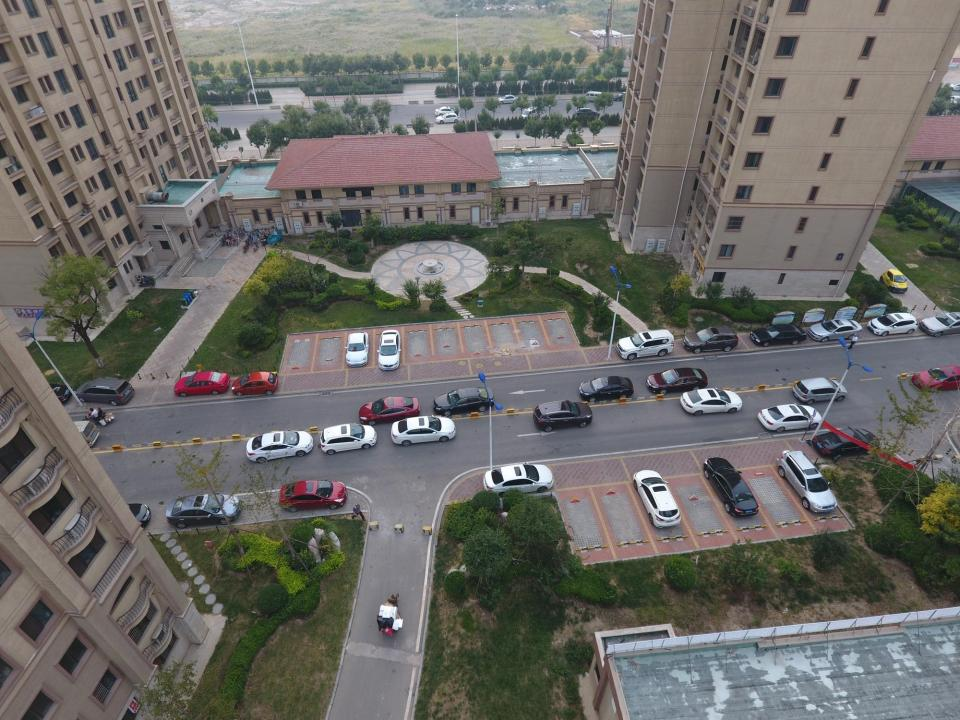car: (777, 450, 838, 512), (704, 457, 758, 517), (633, 470, 681, 527), (166, 492, 242, 528), (483, 462, 553, 497), (811, 426, 881, 461), (279, 478, 347, 512), (81, 498, 151, 531), (246, 430, 314, 463), (391, 414, 455, 446), (758, 402, 822, 433), (533, 400, 592, 432), (432, 386, 494, 416), (359, 396, 420, 426), (680, 387, 742, 416), (616, 329, 674, 360), (320, 423, 377, 454), (646, 368, 708, 395), (682, 326, 739, 354), (792, 377, 847, 405), (174, 371, 230, 397), (578, 376, 634, 402), (911, 365, 960, 392), (807, 318, 862, 342), (750, 324, 807, 346), (22, 383, 72, 408), (231, 371, 278, 396), (867, 313, 918, 336), (919, 312, 960, 336), (377, 330, 401, 370), (345, 331, 369, 367), (879, 269, 908, 292), (436, 112, 460, 124), (435, 106, 459, 117), (574, 108, 600, 118), (612, 91, 638, 101), (497, 95, 518, 104), (949, 96, 960, 106)
van: (74, 376, 135, 406), (42, 420, 100, 448), (522, 106, 541, 120), (583, 90, 602, 102)
